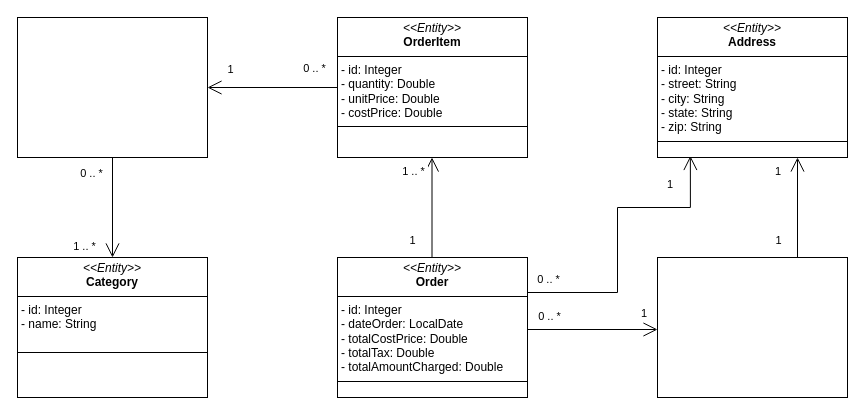
This 865x415 diagram has some shape labels left out. The shapes that lost their labels are listed below. From the top down, each one's centre as x and y in pixels, then its label:
At (x=112, y=87): "<<Entity>> Product - id: Integer - name: String - description: String".
At (x=752, y=327): "<<Entity>> Customer - id: Integer - firstName: String - lastName: String".
